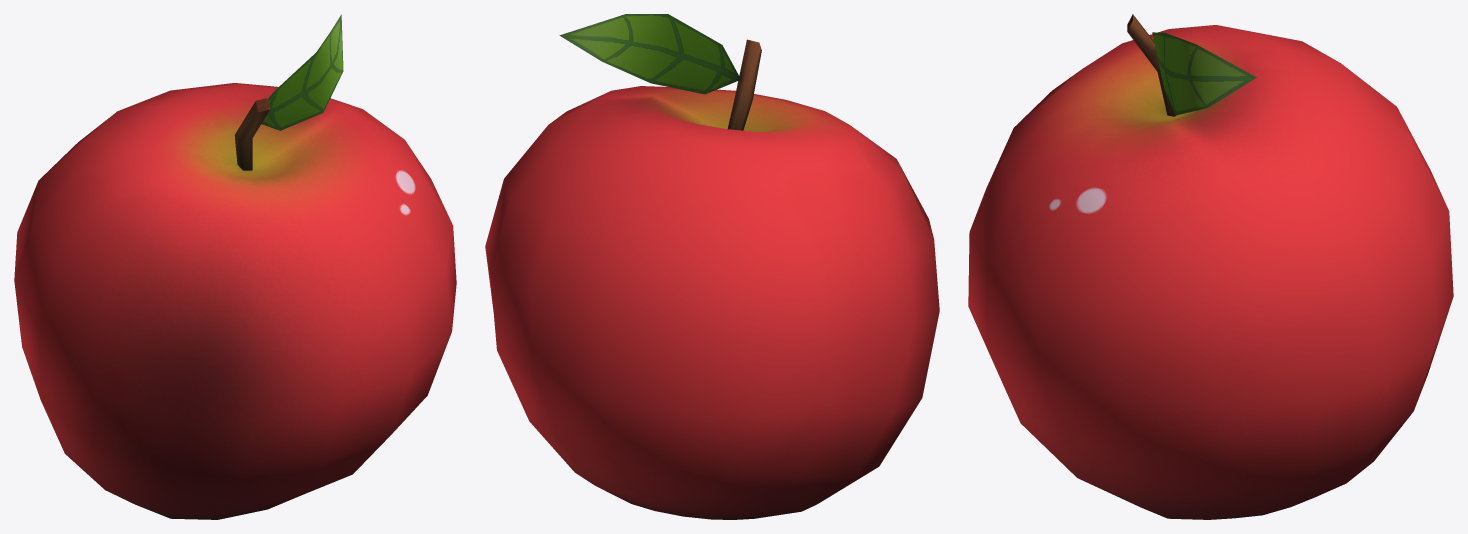
The model's file is Apple_Full.fbx.
3 renders of one model, left to right at view 1: azimuth 30°, elevation 25°; view 2: azimuth 150°, elevation 25°; view 3: azimuth 270°, elevation 25°, orthographic. The views are drawn at different scales.
Visible parts, largest first — view 1: 047; view 2: 047; view 3: 047.
Boxes of the visible parts, x1,y1,x2,y2 form: 047: (14, 14, 456, 519); 047: (485, 14, 939, 519); 047: (968, 14, 1453, 519).
Bounding box in the file's own units: 25.92 × 27.94 × 24.33.
